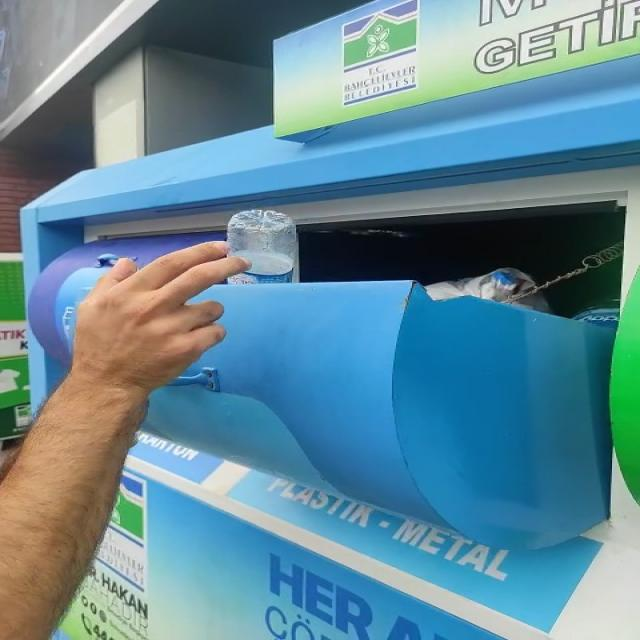plastic: (227, 209, 299, 284)
